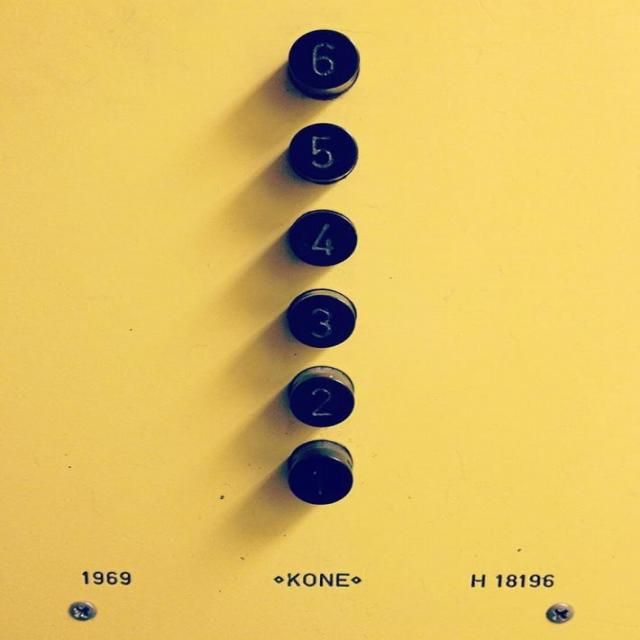2: (284, 364, 356, 427)
3: (284, 288, 359, 348)
4: (284, 208, 357, 266)
5: (286, 121, 357, 188)
6: (284, 28, 361, 102)
blur: (283, 438, 352, 507)
